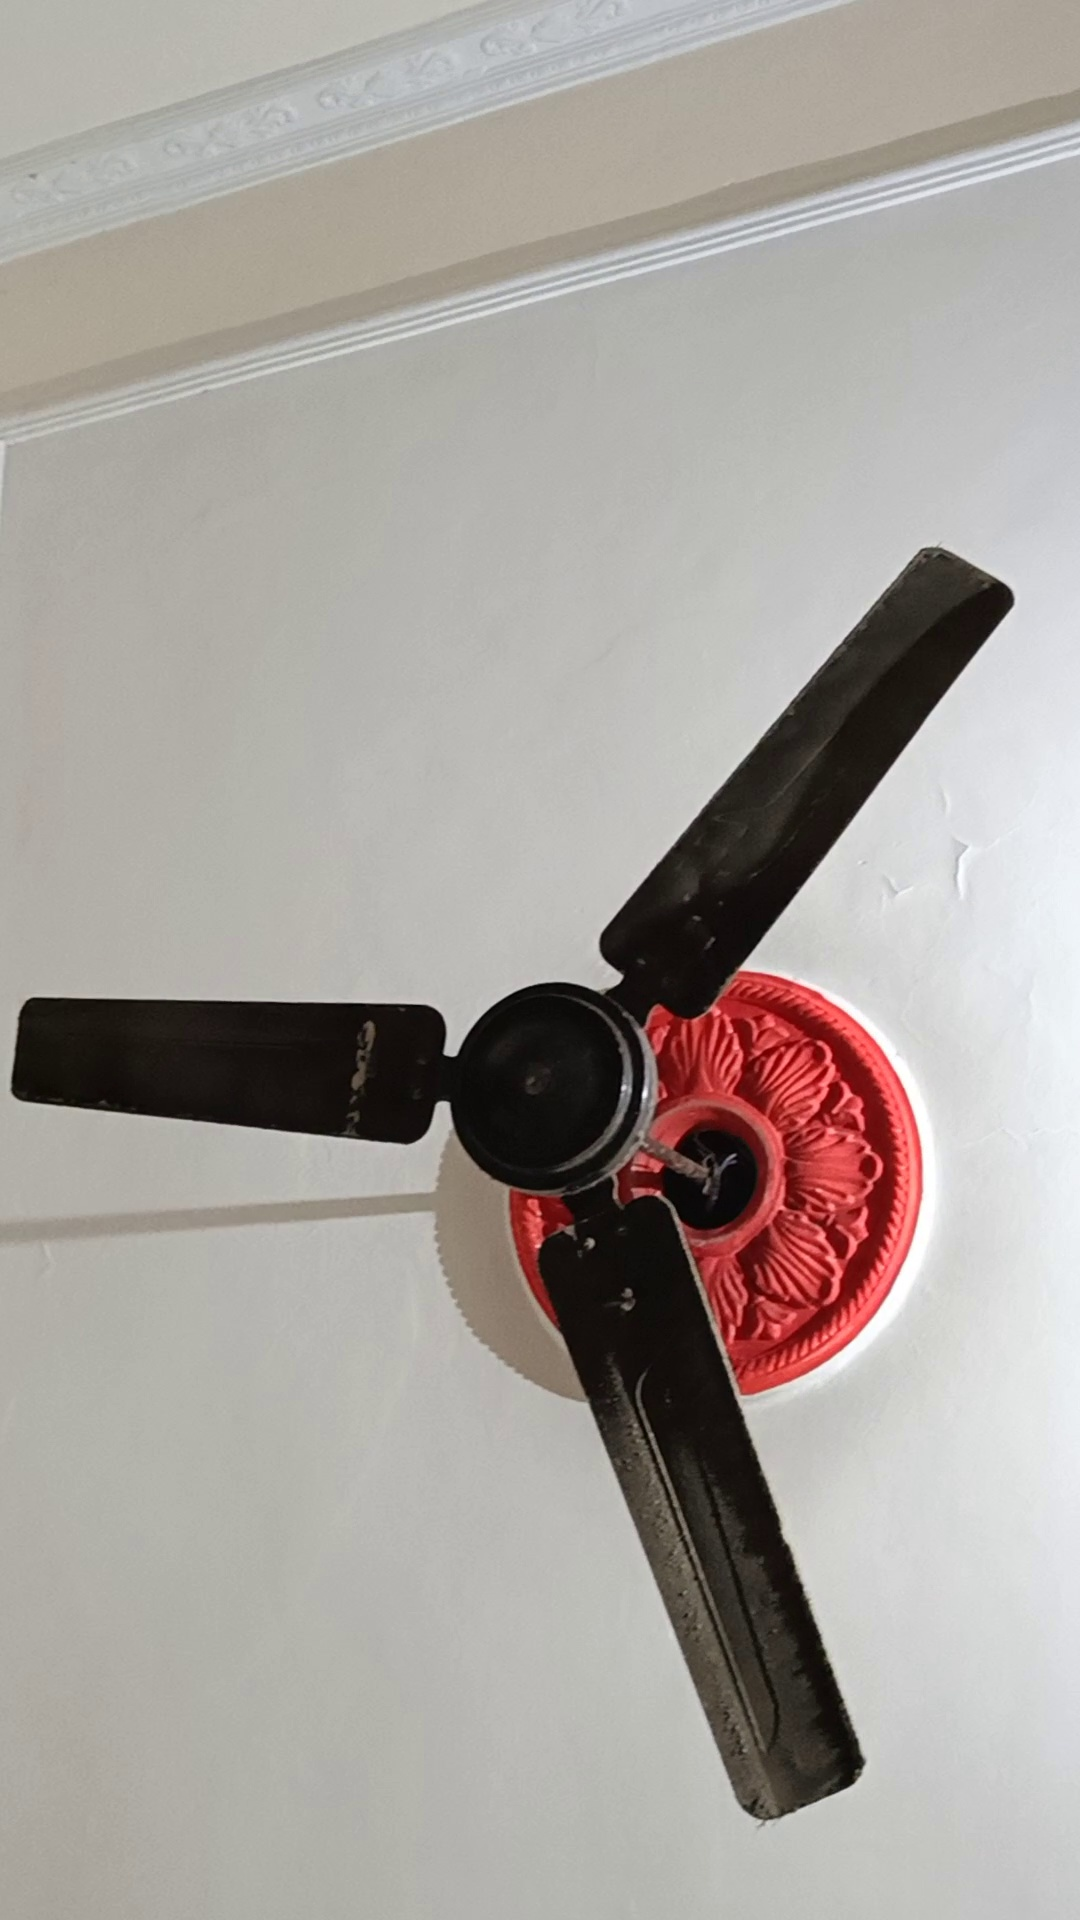fan: (1, 514, 1014, 1833)
